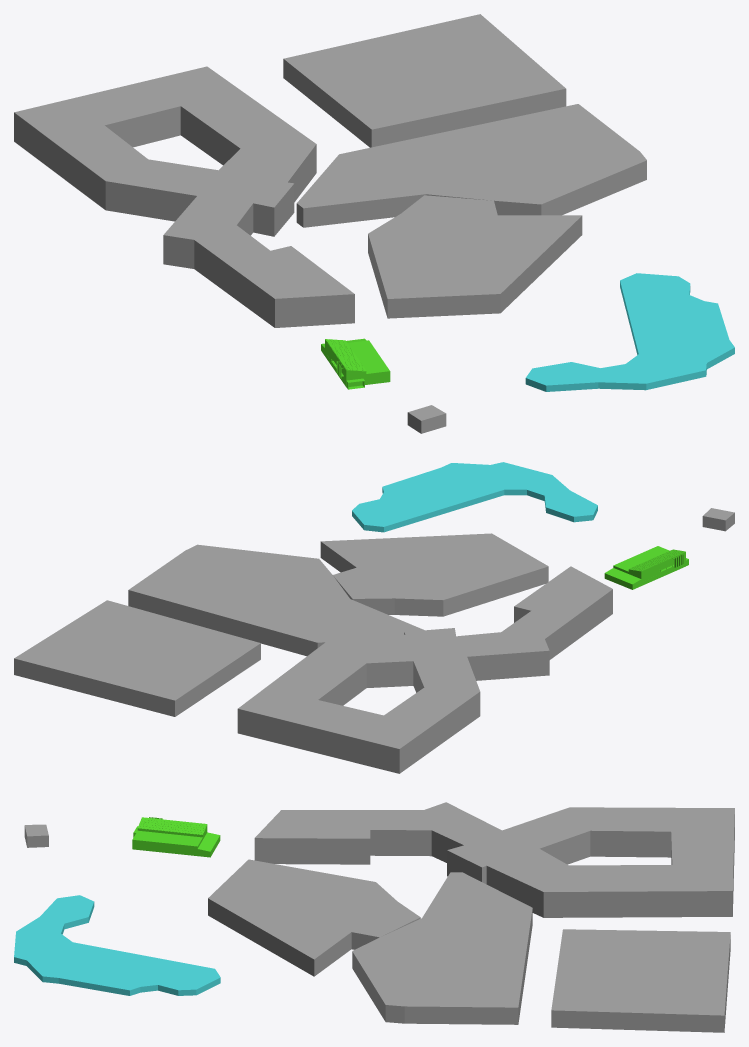
File: K_Map3.glb
3 views of the same model, one above another, from view 1: azimuth 30°, elevation 25°; view 2: azimuth 150°, elevation 25°; view 3: azimuth 270°, elevation 25° (orthographic). The views are drawn at different scales.
Parts seen in each view (by area): view 1: buildings, lake, KK; view 2: buildings, lake, KK; view 3: buildings, lake, KK.
Boxes of the visible parts, <box> form: buildings: <box>14,14,646,433</box>; lake: <box>525,273,734,391</box>; KK: <box>321,338,390,389</box>; buildings: <box>14,508,734,773</box>; lake: <box>352,462,597,532</box>; KK: <box>604,546,688,589</box>; buildings: <box>24,802,734,1032</box>; lake: <box>14,895,220,995</box>; KK: <box>132,817,220,857</box>.
Bounding box in the file's own units: 335 × 24.11 × 499.
